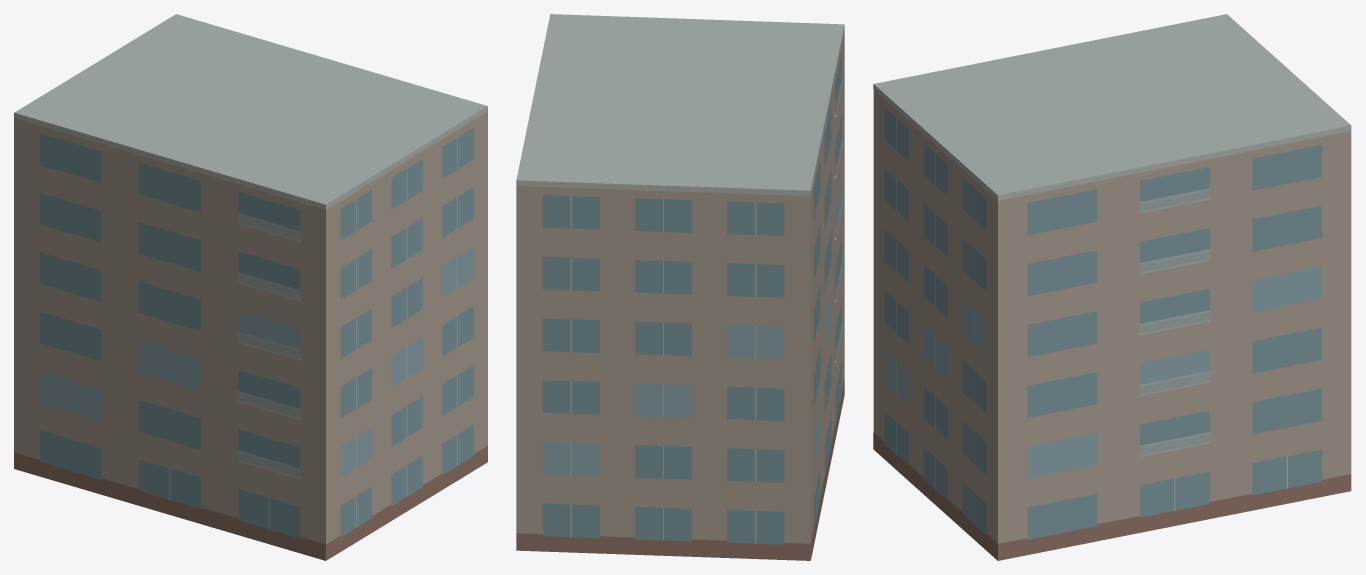
Rendered from survey-upis-32739639.glb.
The picture shows the model from 3 angles, left to right: view 1: azimuth 30°, elevation 25°; view 2: azimuth 150°, elevation 25°; view 3: azimuth 270°, elevation 25°; orthographic projection. The views are drawn at different scales.
Visible parts, largest first — view 1: survey-upis-32739639.tmp; view 2: survey-upis-32739639.tmp; view 3: survey-upis-32739639.tmp.
Boxes of the visible parts, x1=… form: survey-upis-32739639.tmp: x1=14, y1=14, x2=487, y2=560; survey-upis-32739639.tmp: x1=516, y1=14, x2=844, y2=560; survey-upis-32739639.tmp: x1=873, y1=14, x2=1351, y2=560.
Size of the model in its own units: 17.19 by 16.15 by 19.15.
